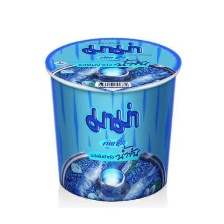paper_cup: (40, 30, 186, 208)
